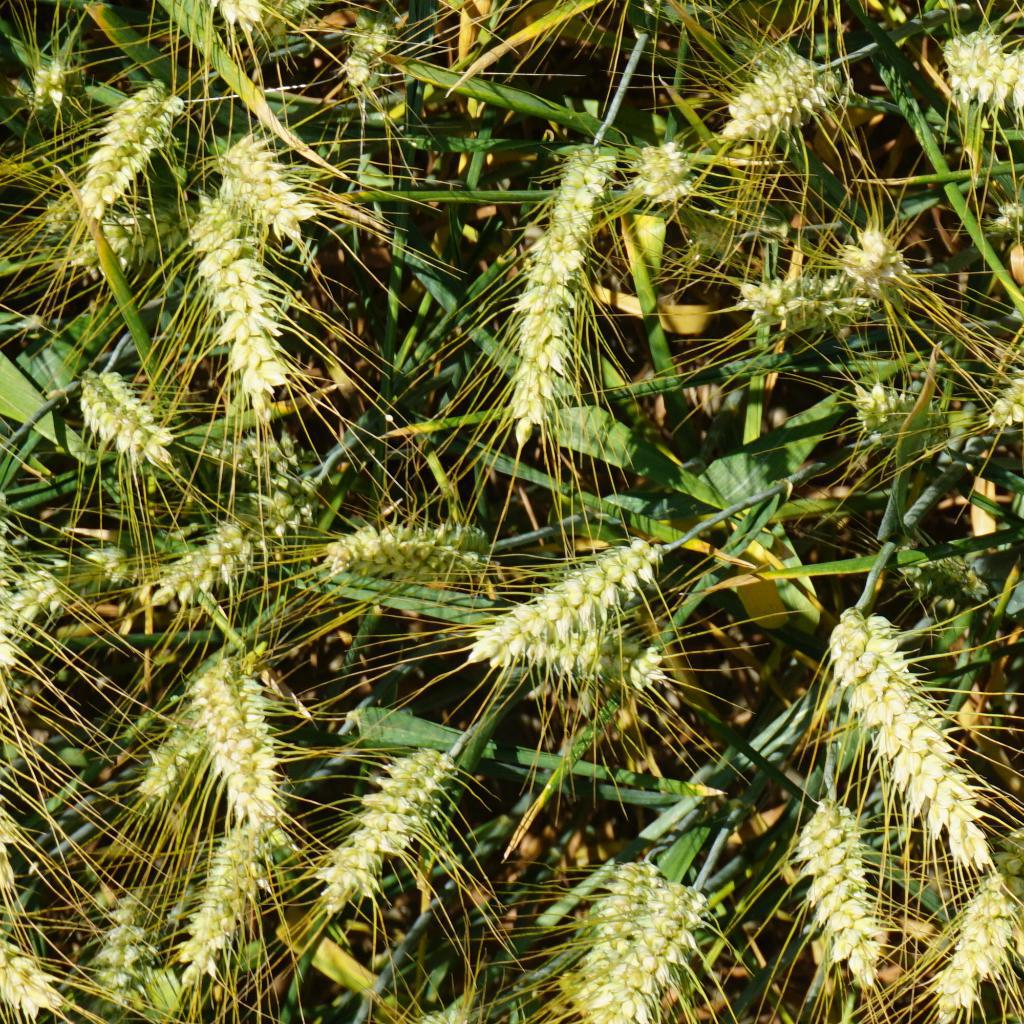0-0: (823, 599, 978, 842), (435, 553, 696, 672), (309, 740, 463, 920), (521, 118, 634, 337), (177, 653, 294, 839), (799, 792, 896, 992), (192, 196, 293, 388), (62, 358, 186, 499), (77, 64, 175, 230), (947, 826, 1024, 1019), (309, 499, 497, 576), (153, 503, 293, 599), (211, 124, 320, 241), (183, 819, 260, 973), (719, 56, 854, 141), (932, 17, 1024, 131), (629, 871, 708, 997), (821, 220, 922, 301), (2, 547, 124, 614), (192, 425, 312, 485), (90, 890, 152, 1004), (596, 845, 651, 973), (625, 126, 704, 209), (741, 44, 844, 105), (843, 387, 946, 448), (733, 263, 826, 329), (131, 716, 196, 808), (894, 537, 979, 591), (0, 941, 64, 1012), (339, 5, 388, 77), (164, 0, 271, 32), (419, 984, 497, 1024), (19, 53, 68, 104), (1003, 329, 1024, 435), (984, 197, 1024, 251), (263, 0, 321, 18)
